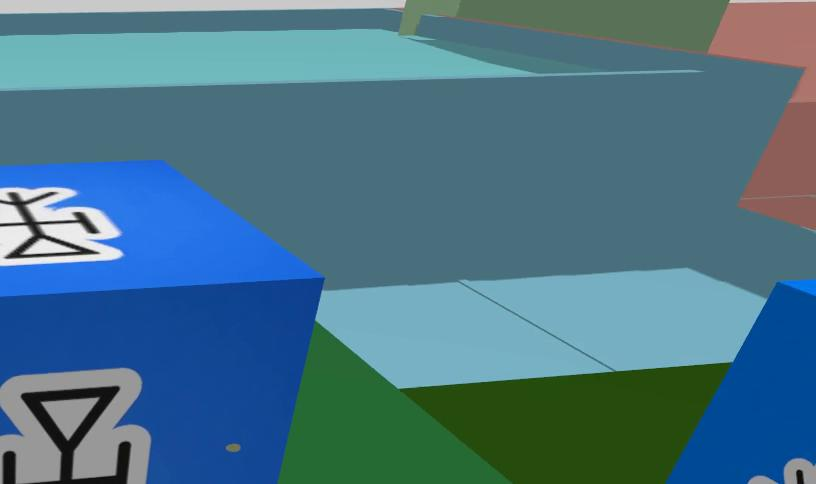KFS_REAL: (0, 161, 322, 484), (664, 278, 815, 484), (0, 369, 150, 484), (0, 187, 122, 264)
